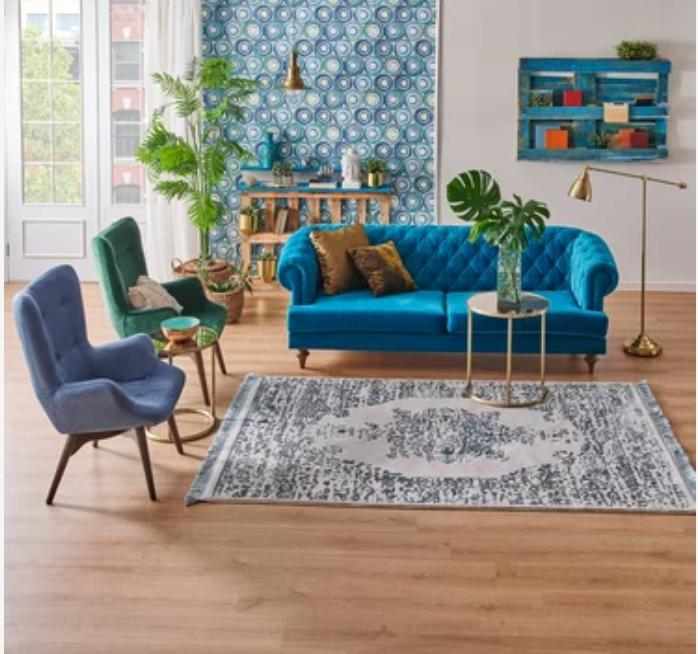carpet: (187, 374, 697, 513)
